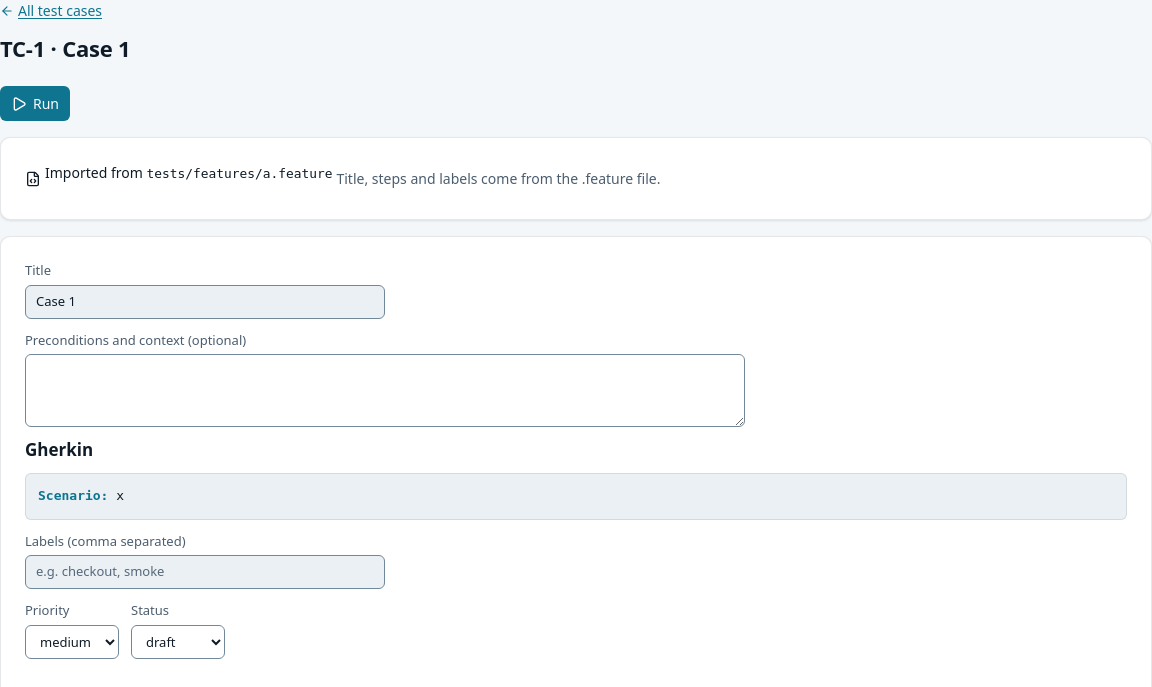
an unlinked case asks for no estimate
Click the button "Run" at [35, 104], box 0,86 -> 70,121
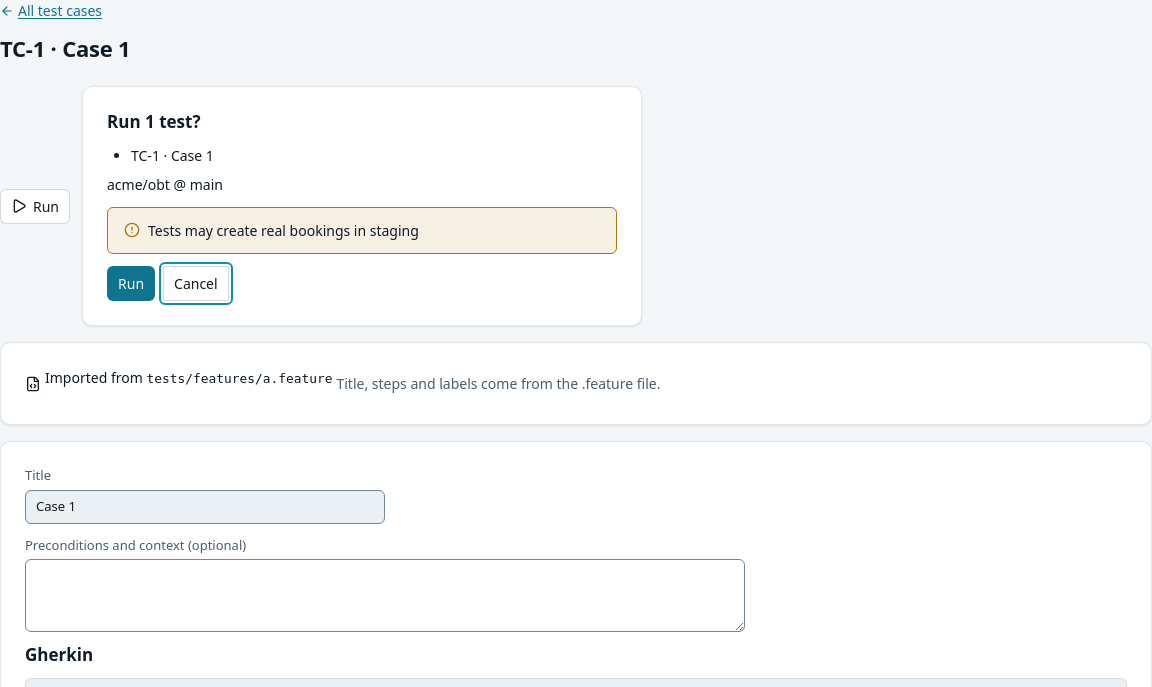
Now the dialog "Run 1 test?" is shown, box 82,86 -> 642,326
